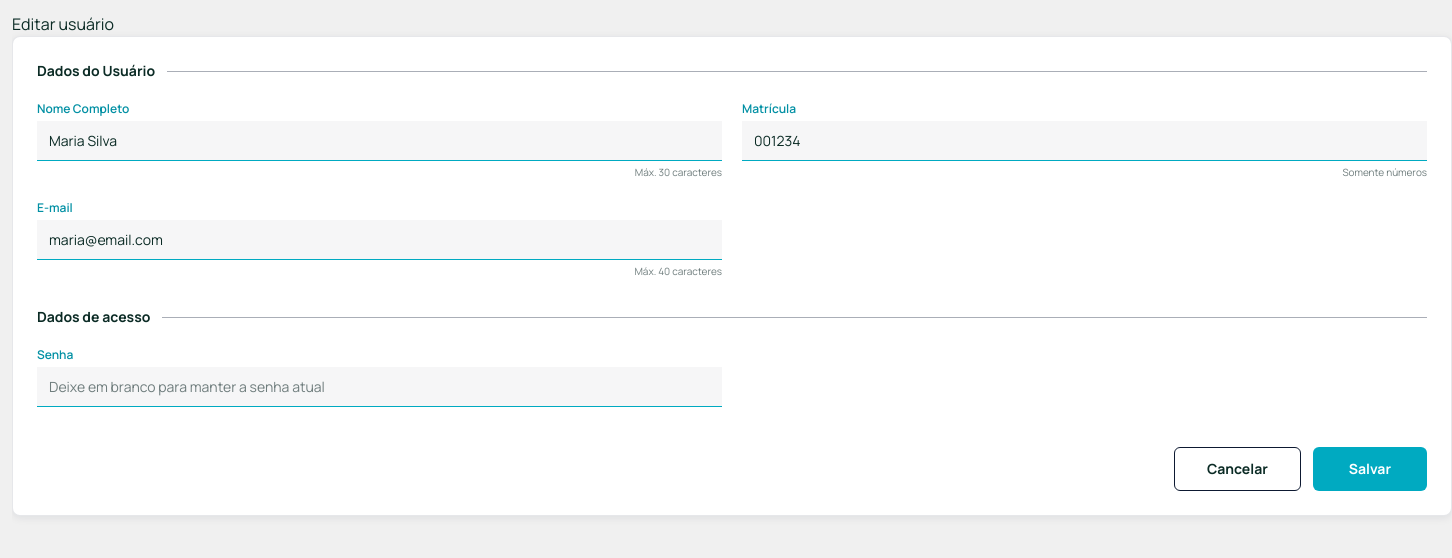
Scenario: UserEditPage › shows a specific message when updating returns 404
Expected: the heading "Editar usuário" is shown, [12,13,114,35]
Click the button "Salvar".
click(1370, 469)  # box [1313,447,1427,491]
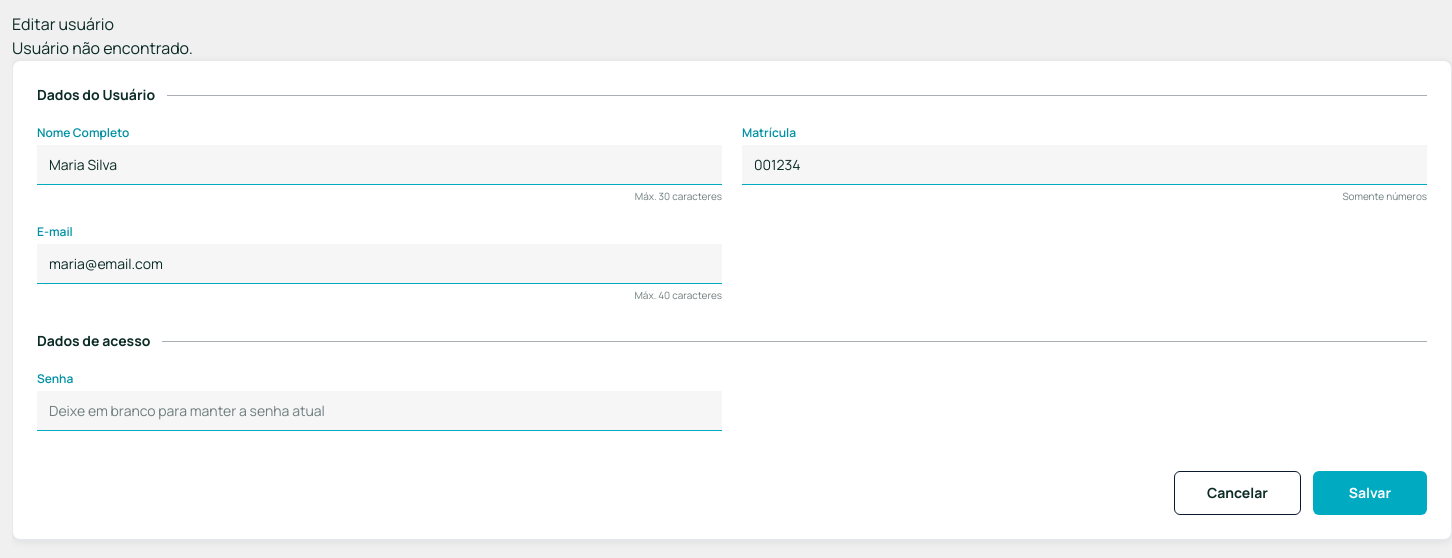
Now the message reads "Usuário não encontrado.", box [12,37,193,59]
